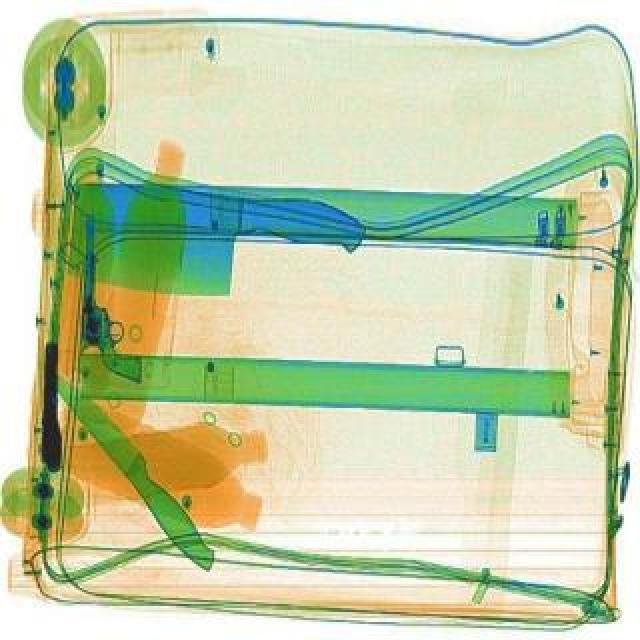gun: (78, 210, 142, 378)
knife: (54, 166, 370, 310), (38, 358, 226, 578), (34, 340, 66, 472)
